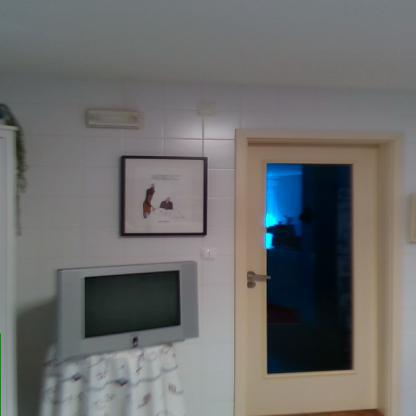door: (247, 142, 378, 414)
lever: (247, 270, 276, 284)
